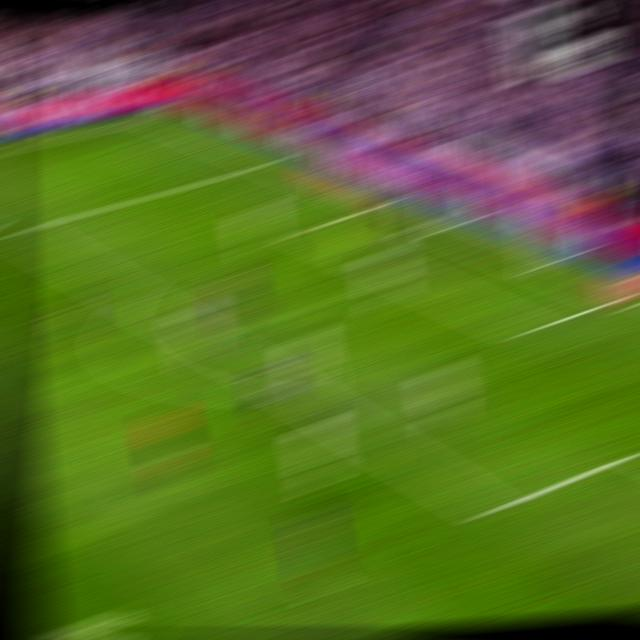bigarea_bottom_inner: (473, 496, 510, 526)
bigarea_top_inner: (3, 220, 36, 240)
bottom_arc_area_intersection: (260, 153, 289, 166)
corner: (149, 111, 180, 118)
smallarea_top_inner: (289, 222, 319, 238)
top_arc_area_intersection: (117, 287, 149, 304)
